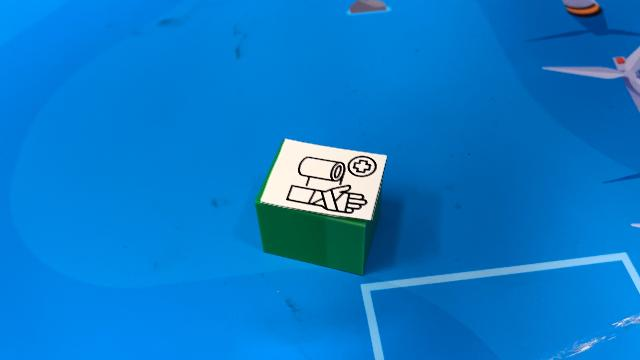bandage: (255, 136, 390, 276)
